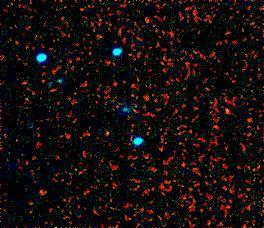star: (213, 96, 243, 126)
